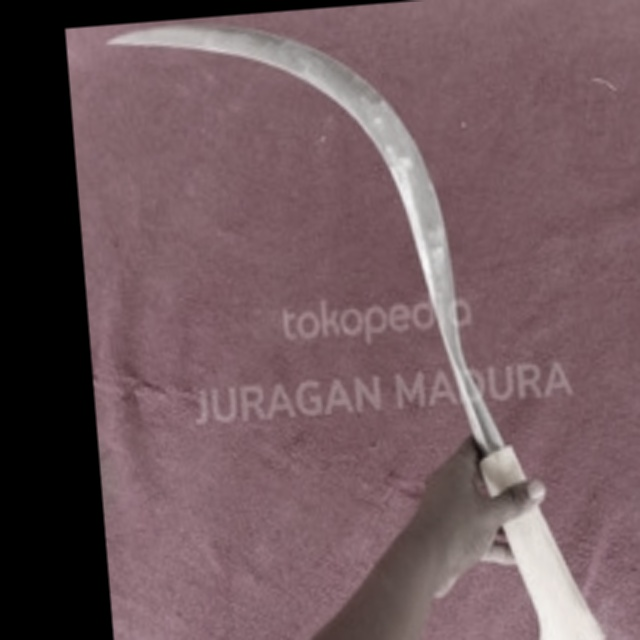Sharp-Object: (89, 0, 614, 640)
